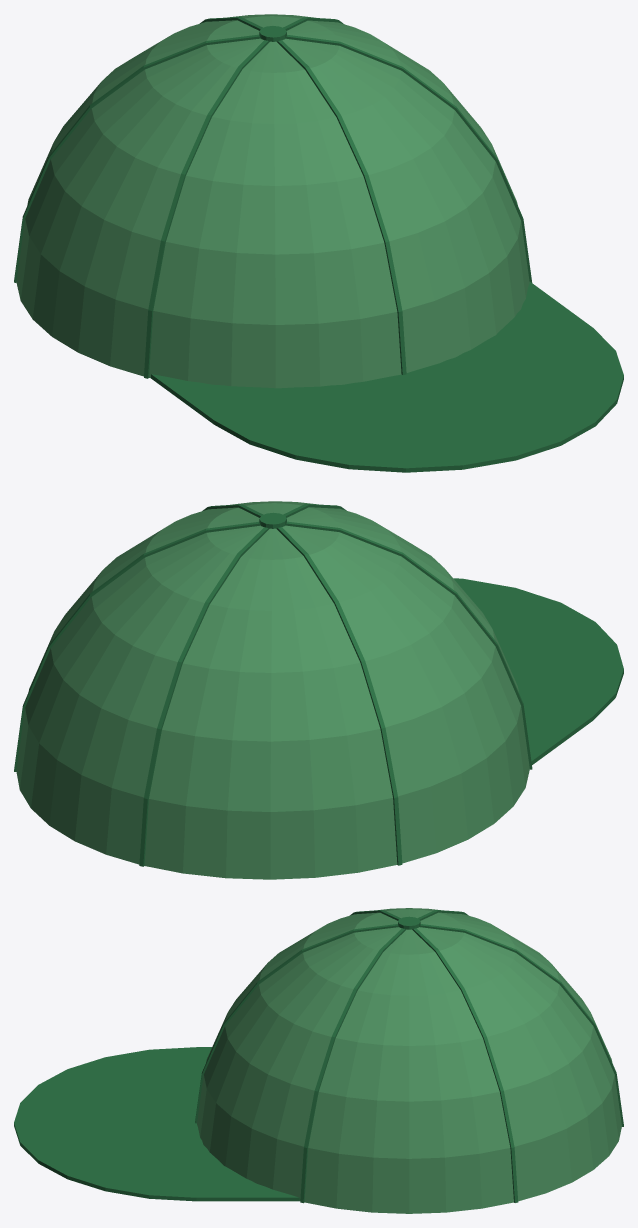
Rendered from cap.dae.
3 renders of one model, top to bottom at view 1: azimuth 30°, elevation 25°; view 2: azimuth 150°, elevation 25°; view 3: azimuth 270°, elevation 25°, orthographic. The views are drawn at different scales.
Parts seen in each view (by area): view 1: __1; view 2: __1; view 3: __1.
Boxes of the visible parts, left/top/right/bottom form: __1: left=14, top=14, right=623, bottom=472; __1: left=14, top=501, right=623, bottom=879; __1: left=14, top=908, right=623, bottom=1213.
Bounding box in the file's own units: 0.1024 × 0.1503 × 0.0556.
